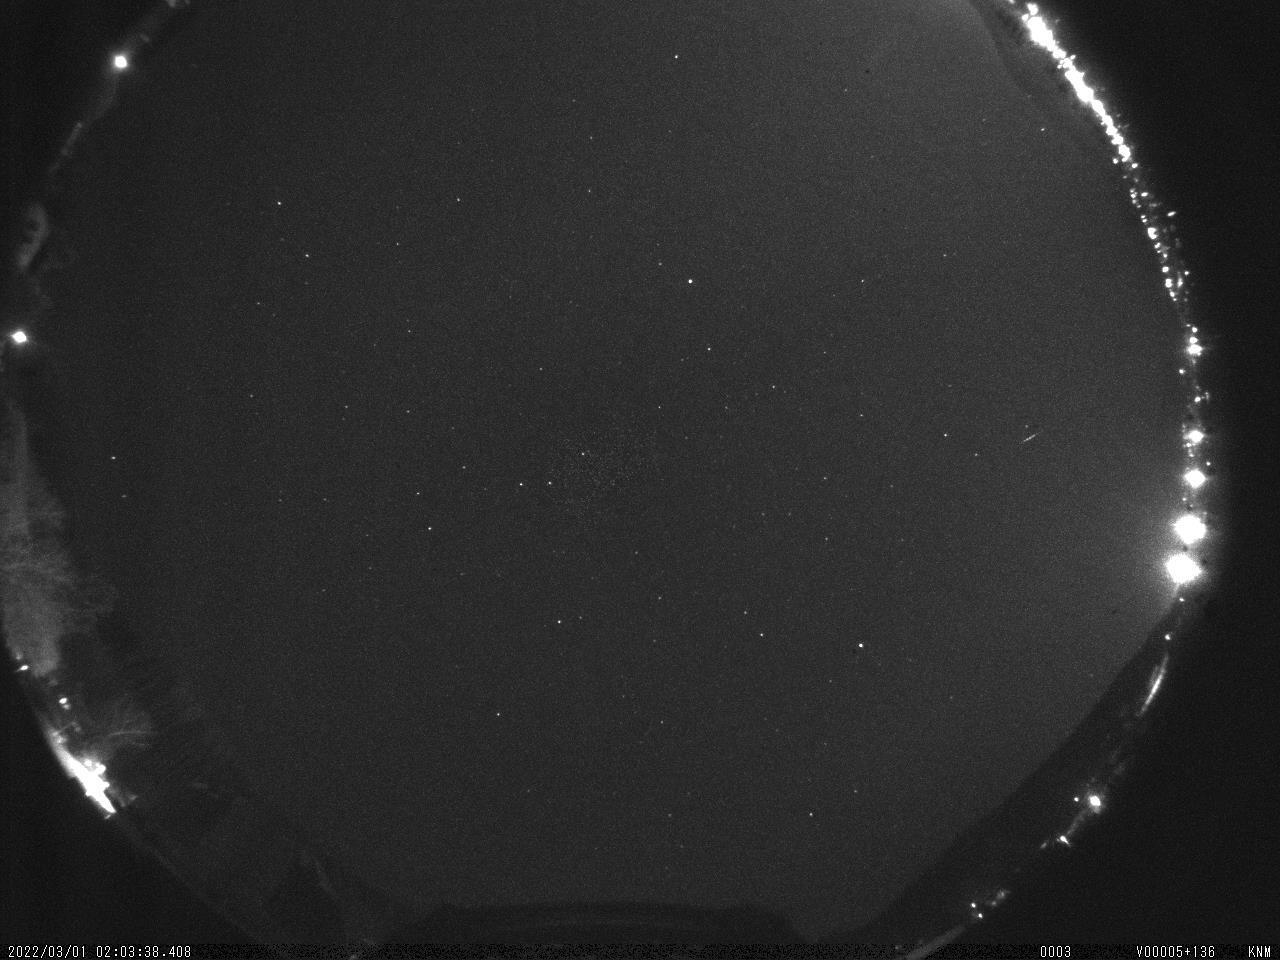Meteor: (1012, 428, 1046, 450)
